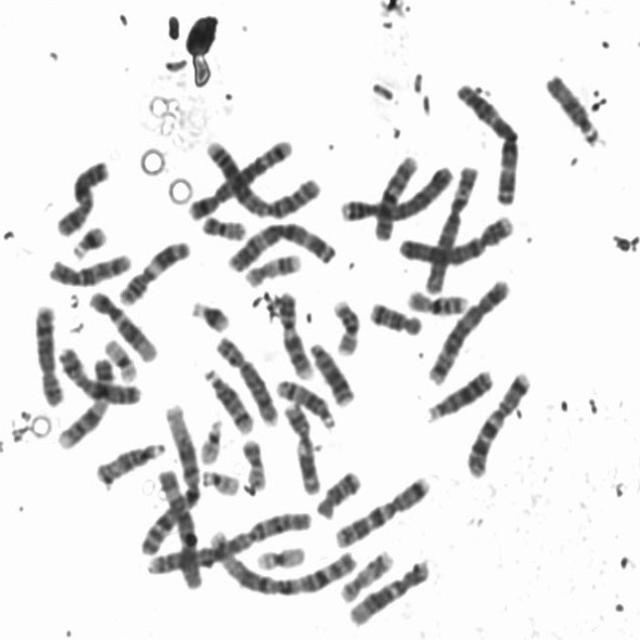A1: (206, 525, 360, 598), (136, 398, 202, 556)
A2: (141, 506, 312, 577), (200, 133, 322, 221)
A3: (451, 76, 525, 207), (222, 216, 338, 275)
B4: (334, 158, 456, 225), (395, 208, 518, 267)
B5: (184, 131, 298, 221), (425, 273, 513, 386)
C10: (370, 148, 421, 242), (45, 247, 136, 289)
C11: (112, 234, 193, 306), (280, 397, 323, 496)
C12: (343, 555, 433, 628), (84, 285, 159, 364)
C6: (421, 158, 482, 297), (151, 462, 203, 592)
C7: (462, 365, 535, 480), (329, 470, 434, 549)
C8: (210, 328, 283, 428), (28, 298, 65, 408)
C9: (54, 353, 117, 451), (272, 286, 316, 380)
D13: (424, 364, 497, 423), (305, 337, 357, 407)
D14: (199, 363, 255, 435), (273, 374, 339, 431)
D15: (541, 67, 603, 148), (91, 436, 168, 488)
E16: (328, 294, 362, 358), (403, 285, 472, 316)
E17: (335, 544, 396, 604), (240, 247, 304, 288)
E18: (313, 464, 364, 520), (365, 296, 425, 336)
F19: (99, 332, 140, 383), (251, 539, 309, 573)
F20: (237, 432, 269, 493), (198, 210, 249, 242)
G21: (187, 294, 233, 334), (67, 220, 109, 260)
G22: (196, 414, 226, 466), (198, 464, 242, 497)
X: (54, 341, 144, 406), (52, 154, 112, 238)
